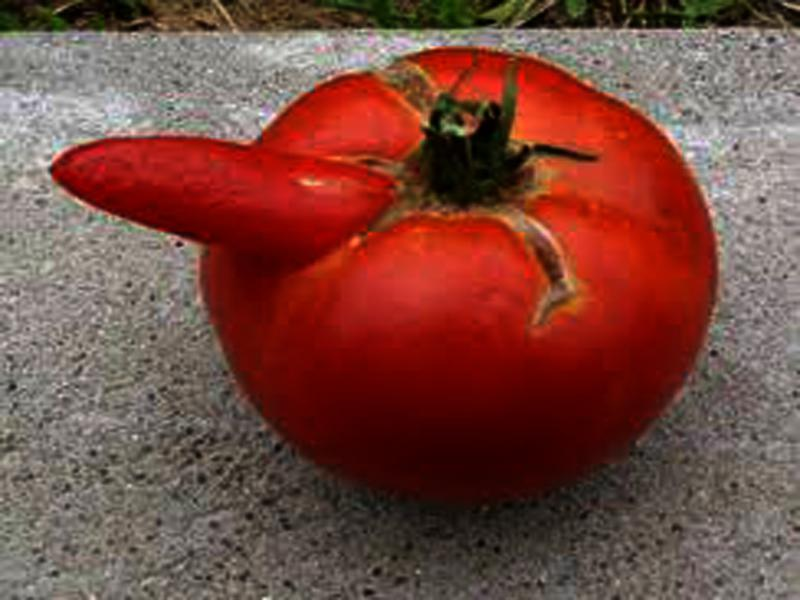Tomato: (200, 46, 721, 487)
